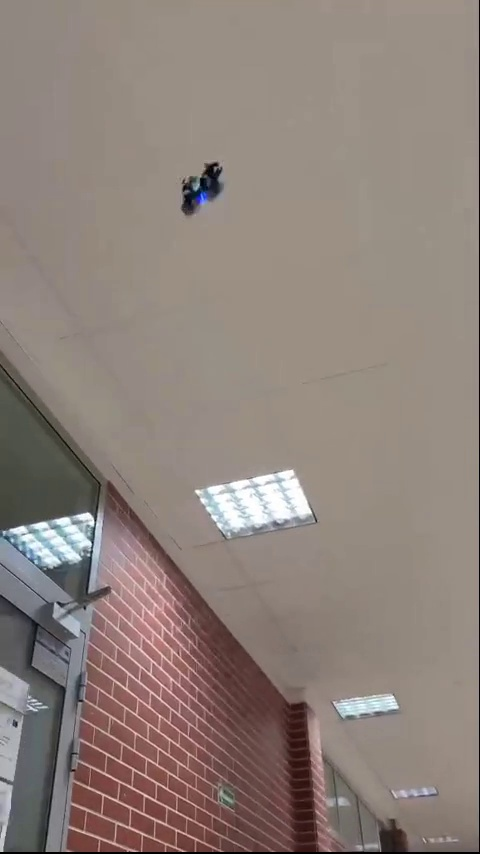drone: (176, 165, 224, 210)
